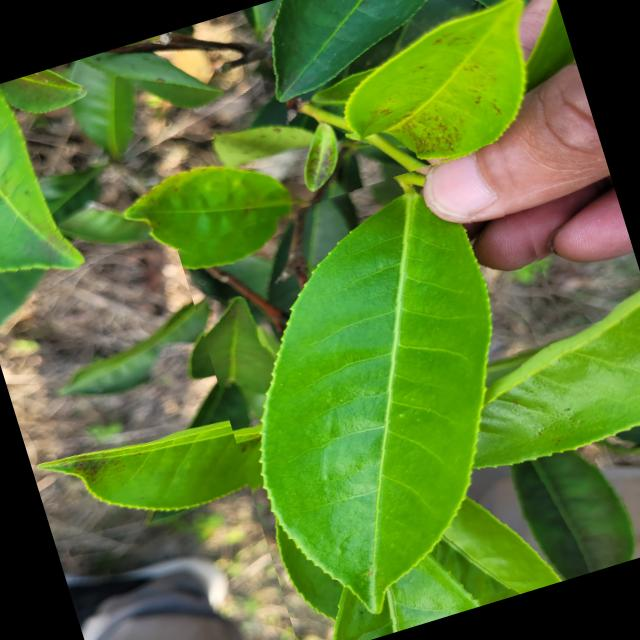Category B(2-4 days): (173, 136, 638, 640)
